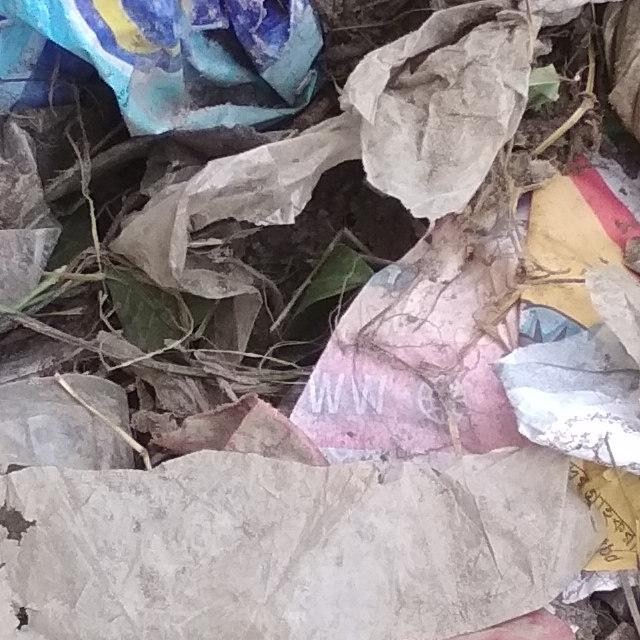paper: (0, 393, 626, 640), (313, 0, 552, 245)
plastic: (0, 0, 410, 193)
